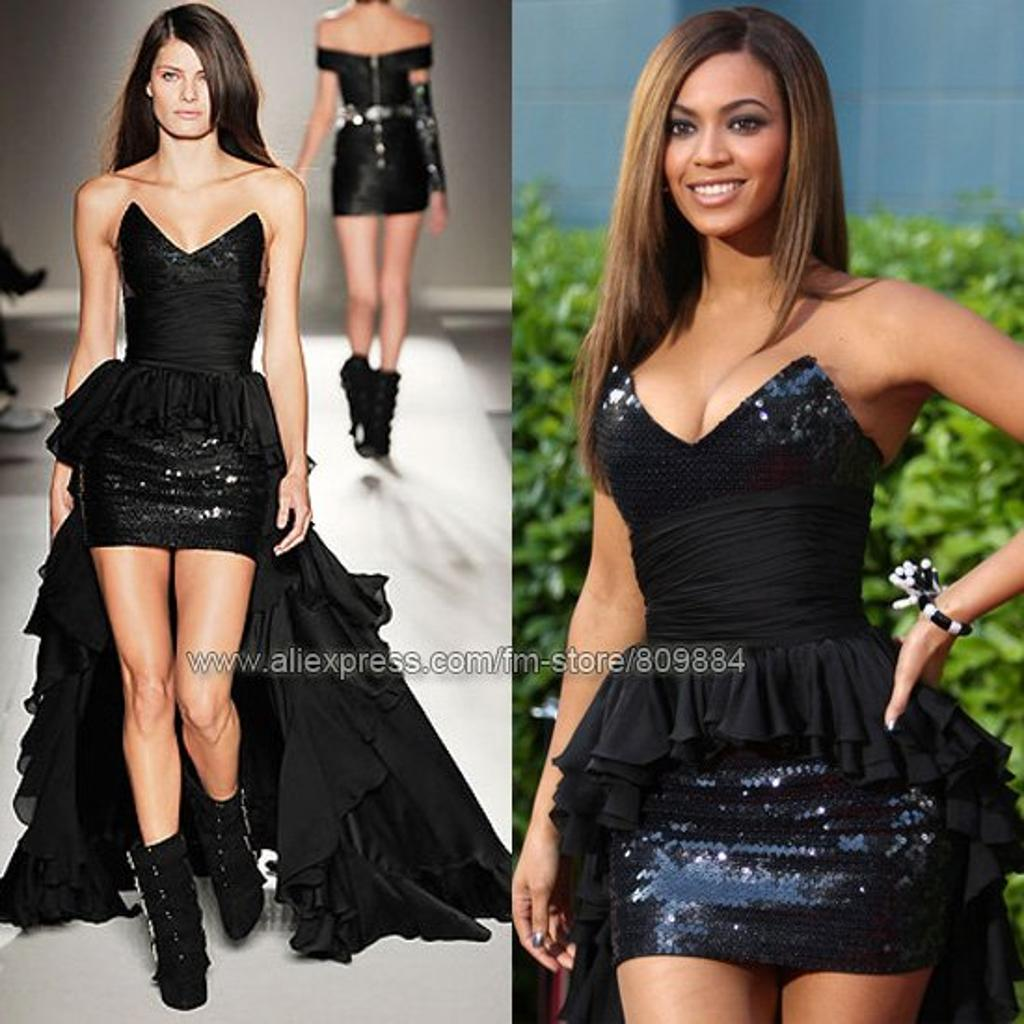face: (658, 58, 788, 232), (154, 36, 230, 138)
